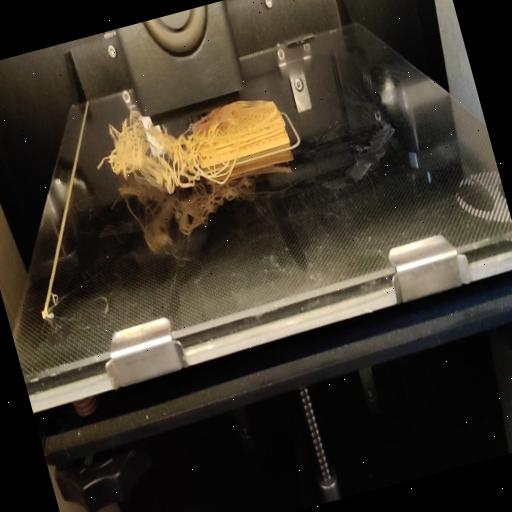spaghetti: (158, 122, 204, 192)
